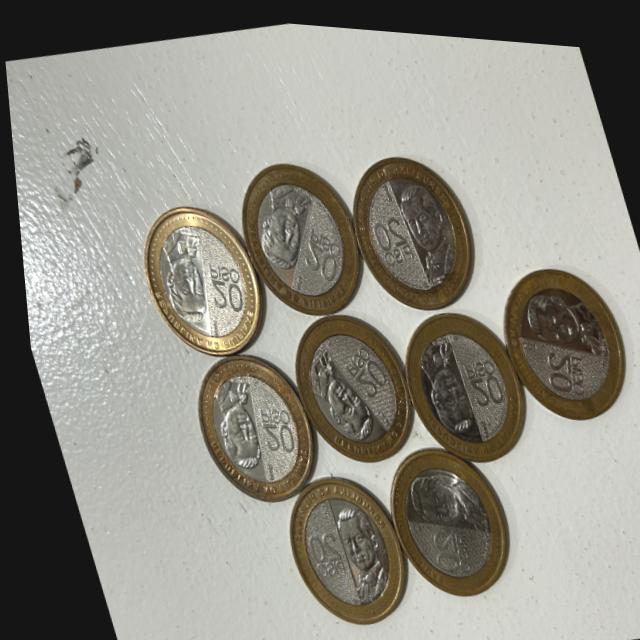20_New_Front: (521, 330, 593, 395), (327, 334, 388, 408), (287, 513, 345, 590), (287, 211, 347, 285), (242, 388, 300, 464), (354, 193, 413, 267), (411, 512, 476, 576), (444, 334, 503, 404), (190, 244, 241, 315)
